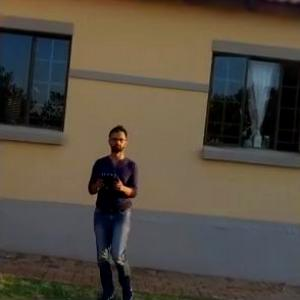follow: (84, 120, 144, 299)
